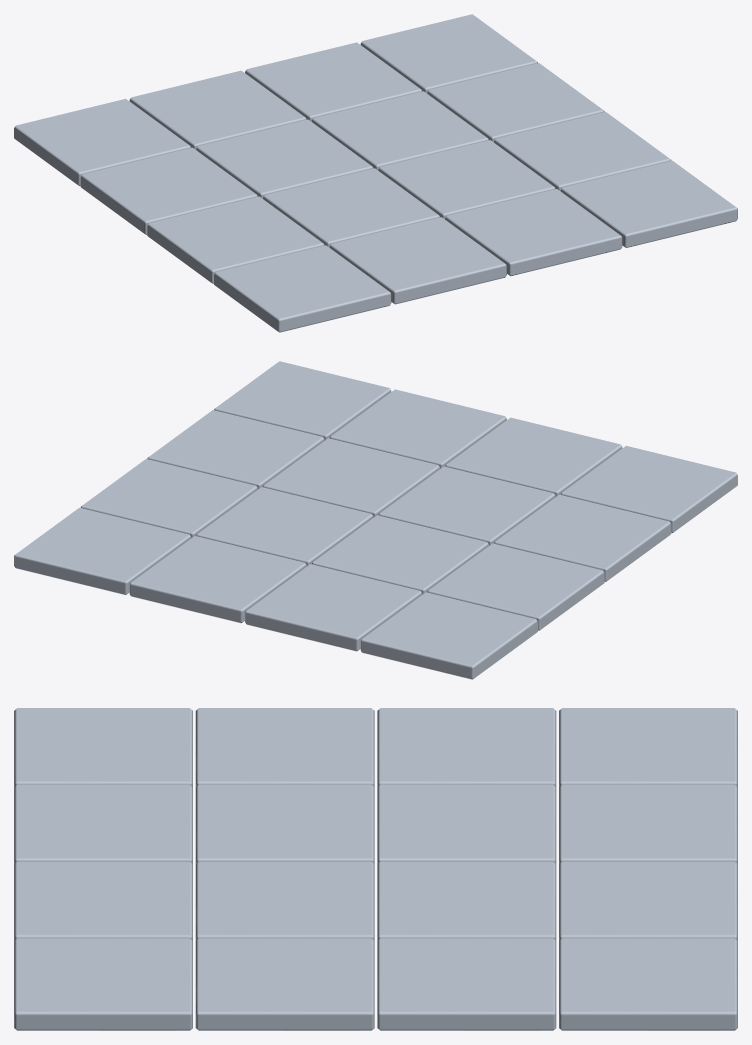
The model's file is garden-paving-lite.glb.
3 renders of one model, top to bottom at view 1: azimuth 30°, elevation 25°; view 2: azimuth 150°, elevation 25°; view 3: azimuth 270°, elevation 25°, orthographic. The views are drawn at different scales.
Parts seen in each view (by area): view 1: garden-paving; view 2: garden-paving; view 3: garden-paving.
Part boxes in pixels (x1,y1,x2,y2): garden-paving: [14, 14, 737, 332]; garden-paving: [14, 361, 737, 679]; garden-paving: [14, 708, 737, 1030].
Size of the model in its own units: 2 by 0.06 by 2.
